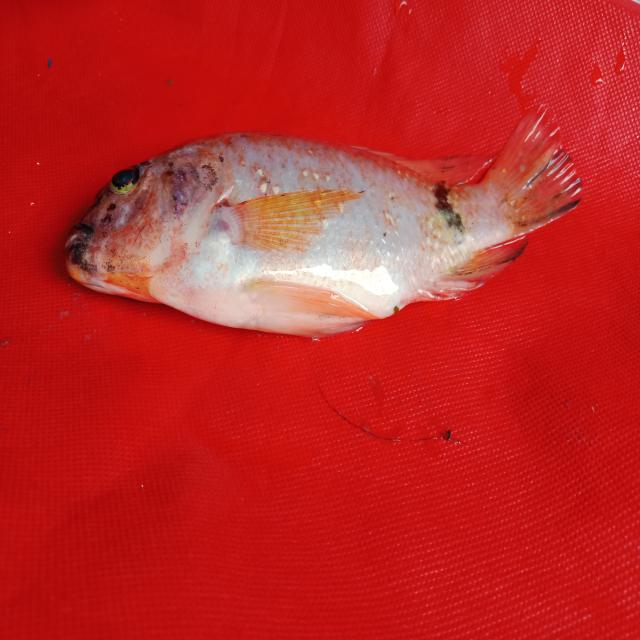ikan: (44, 75, 594, 352)
